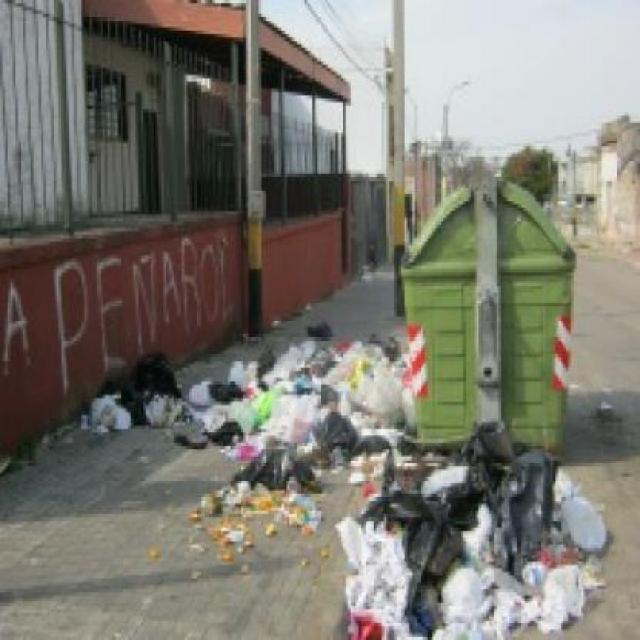garbage: (336, 446, 602, 630), (159, 334, 425, 463), (197, 474, 332, 566), (85, 351, 156, 422), (142, 548, 165, 558)
